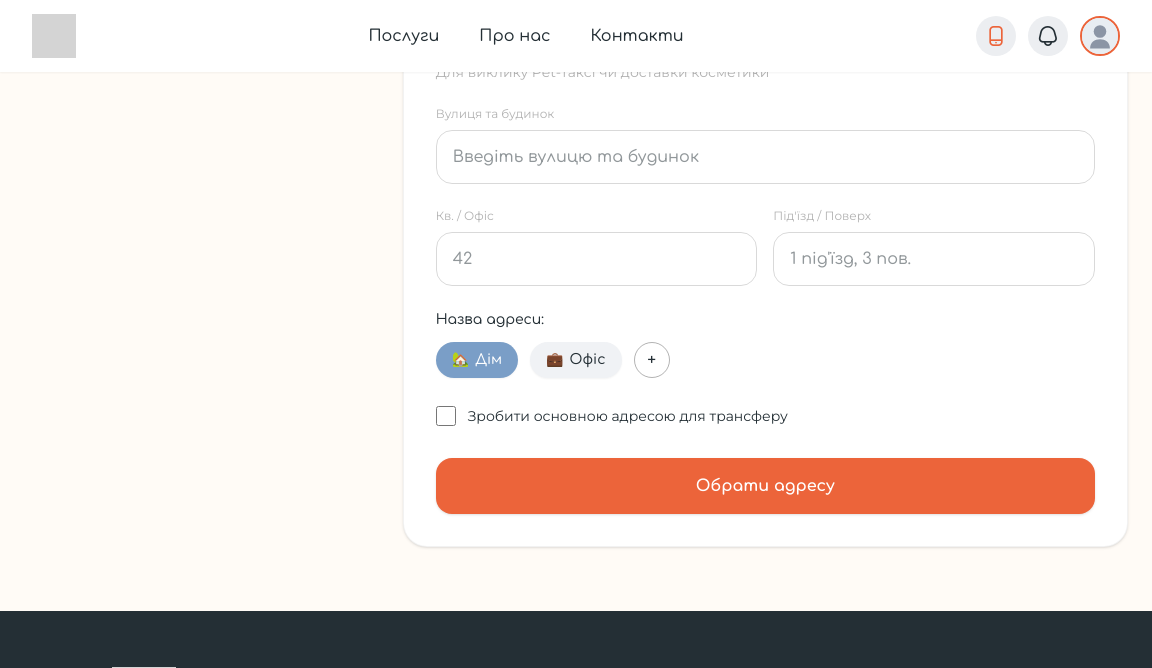
MyAddressesPage › switches address labels and adds a new custom label
(page scrolled)
Click the button "💼 Офіс".
click(576, 360)  # box [530,342,622,378]
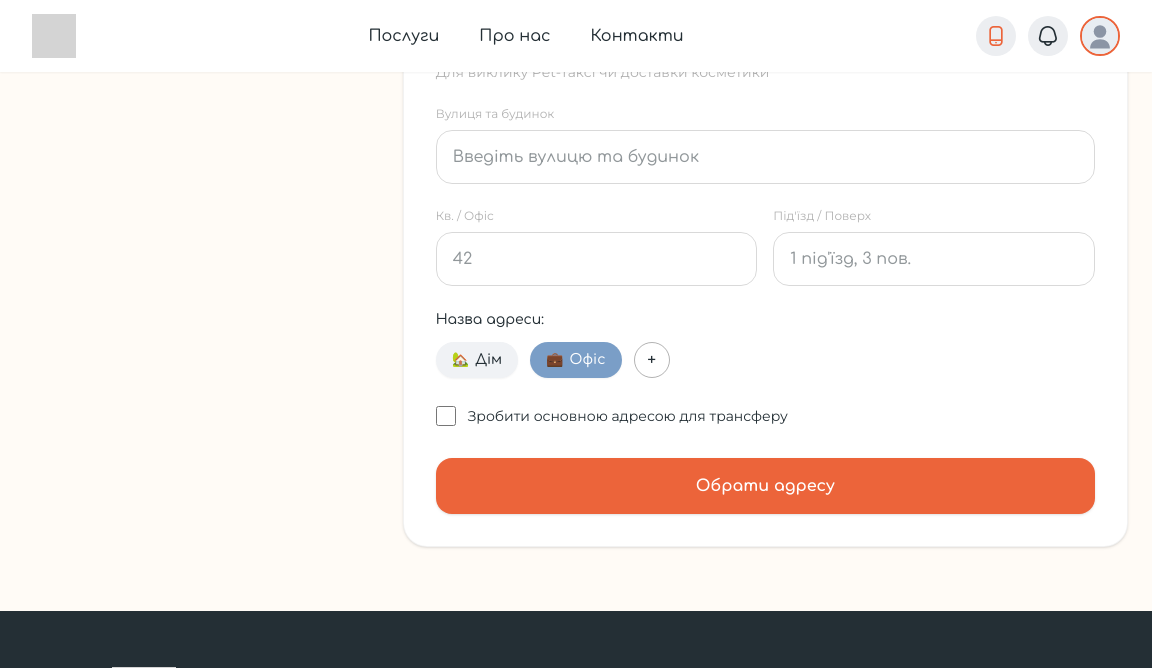
Click the button named "Додати назву адреси".
click(652, 360)  # box [634,342,670,378]
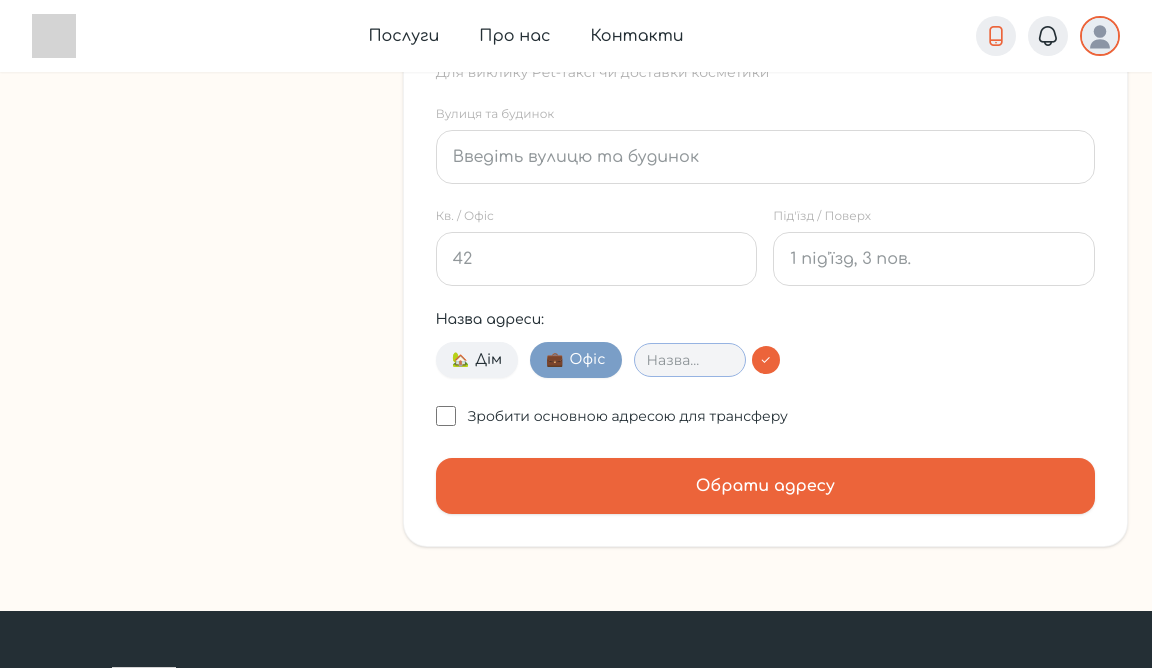
Type "Дача" into the field named "Нова назва адреси".
click(690, 360); type("Дача")  # box [634,343,746,377]
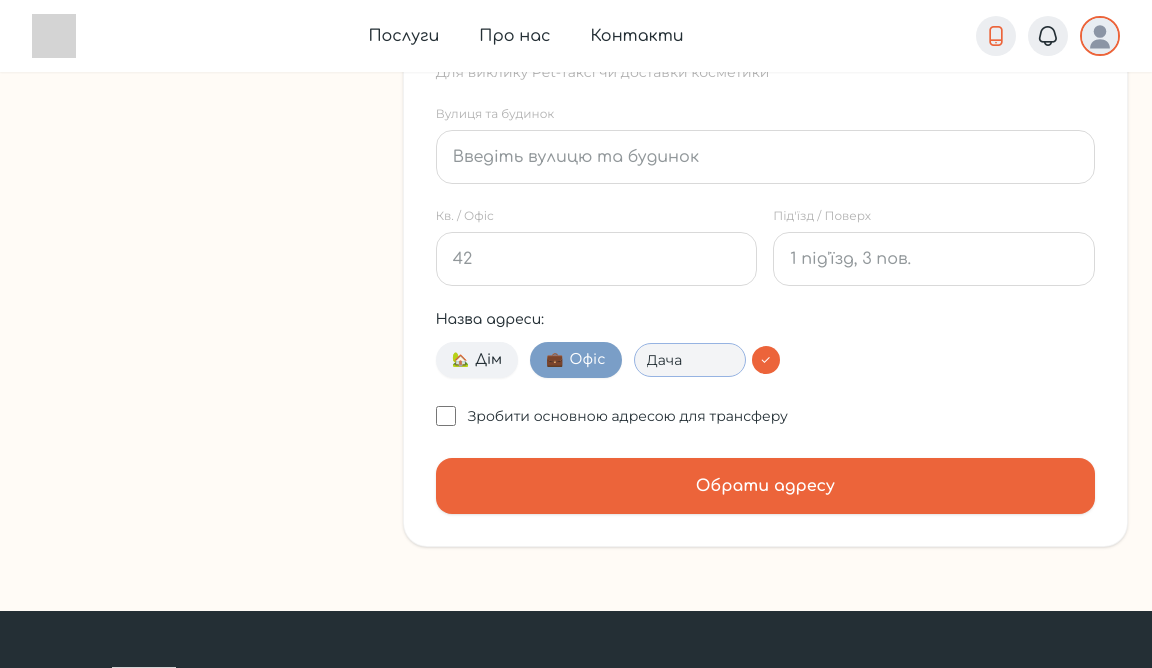
Click the button named "Підтвердити додавання мітки".
click(766, 360)  # box [752,346,780,374]
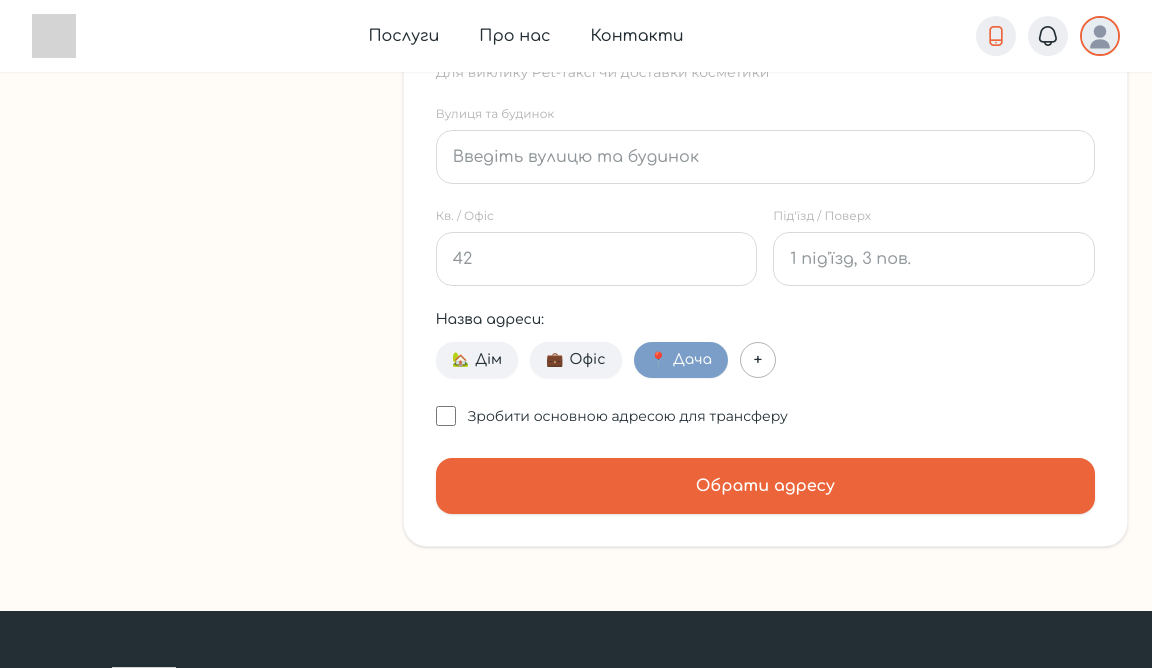
Expected: the button "📍 Дача" is shown, [634,342,728,378]
